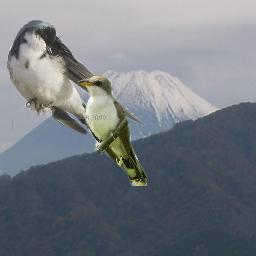Cuckoo: (77, 74, 147, 186)
Swallow: (4, 18, 146, 137)
